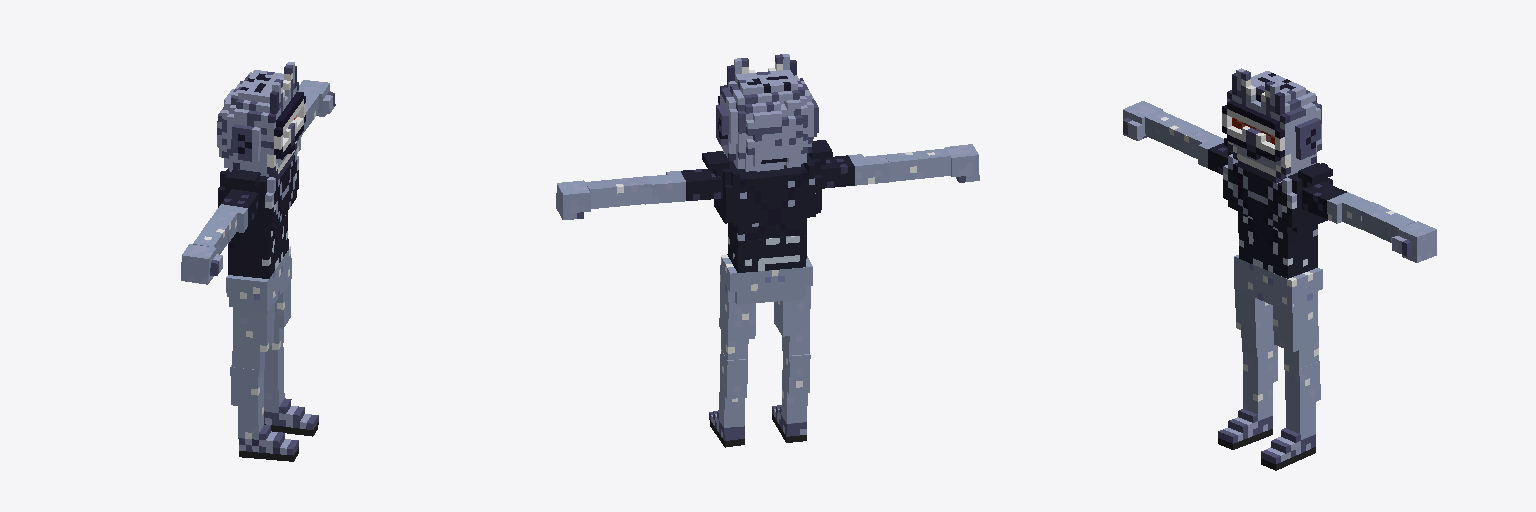
The picture shows the model from 3 angles: view 1: azimuth 30°, elevation 25°; view 2: azimuth 150°, elevation 25°; view 3: azimuth 270°, elevation 25°; orthographic projection.
Parts seen in each view (by area): view 1: Model; view 2: Model; view 3: Model.
Boxes of the visible parts, <box> form: Model: <box>181,62,335,461</box>; Model: <box>556,54,979,447</box>; Model: <box>1123,68,1436,470</box>.
Size of the model in its own units: 46.79 by 58.17 by 44.53.
Materials: 1 (1 with a texture image).